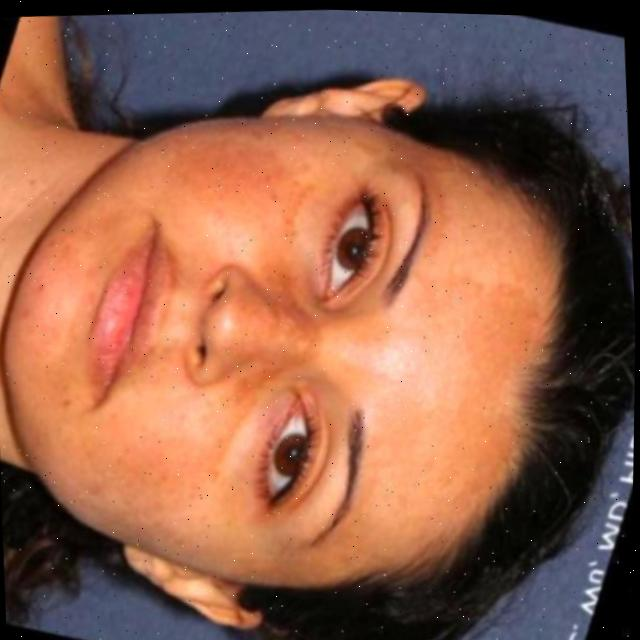Melasma: (199, 155, 320, 292), (96, 404, 210, 497), (273, 294, 316, 367)
